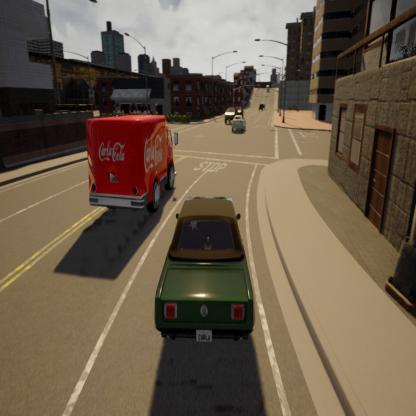Cars: (150, 196, 260, 358), (79, 109, 176, 229), (230, 113, 250, 136), (221, 106, 236, 124), (232, 101, 244, 119)
